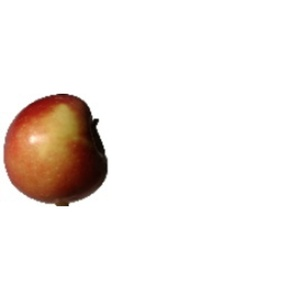maçã braeburn: (2, 88, 111, 209)
